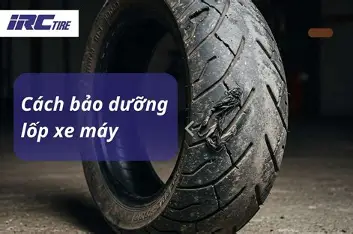ROAD_OBSTACLE: (80, 0, 290, 234)
